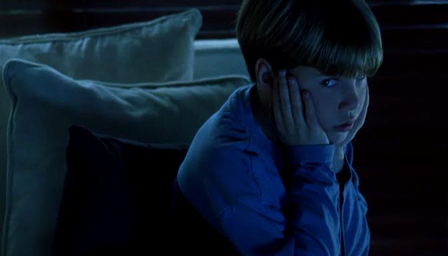face: (313, 59, 367, 145)
mcu: (1, 1, 448, 256)
person: (176, 1, 383, 256)
